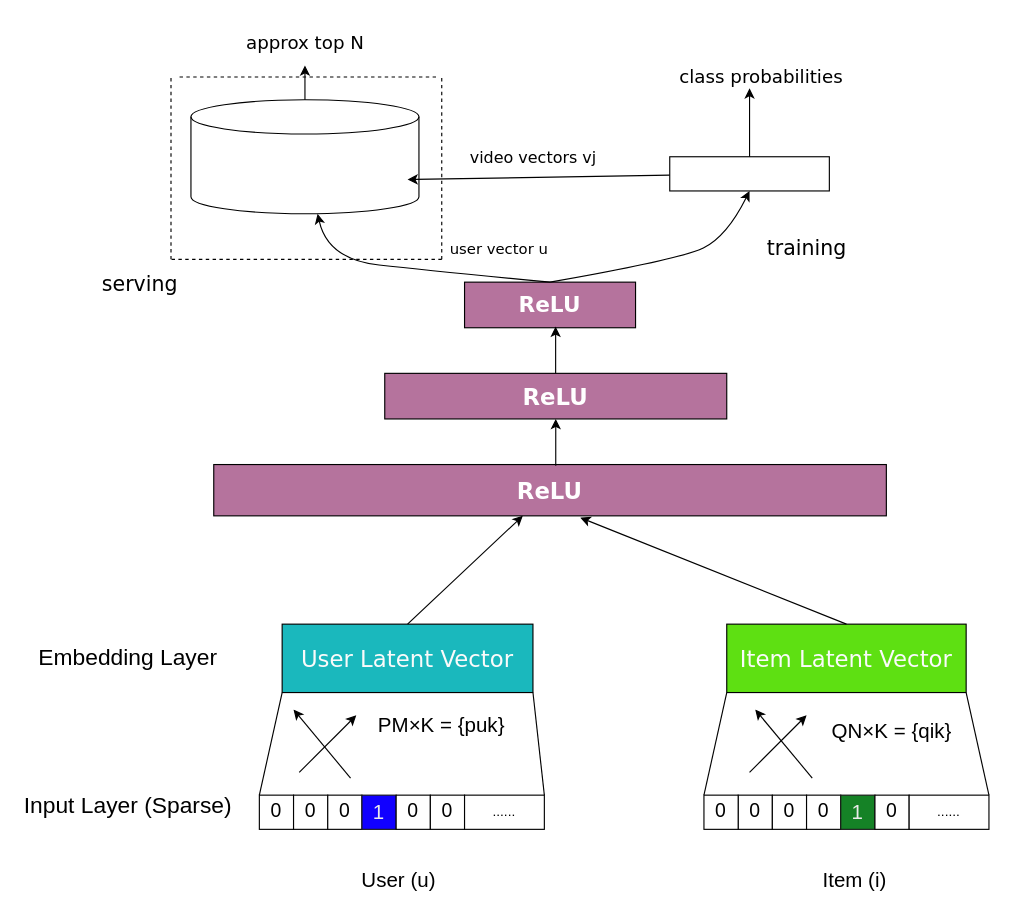
The diagram is 1010 pixels wide and 917 high, and some of its shapes have lost their labels. The box of each missing label's shape, as (x1, y1, x2, y2) in pixels:
nearest neighbor index: (190, 99, 419, 214)
softmax: (669, 156, 829, 191)
